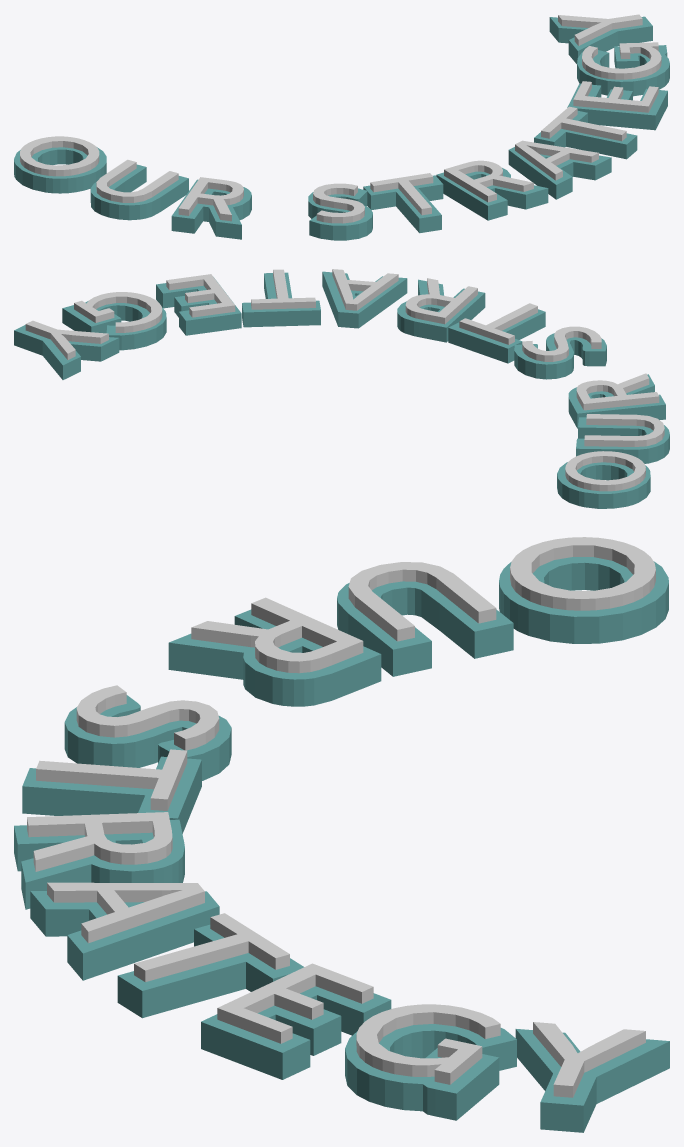
Rendered from SIDE2-title.glb.
The picture shows the model from 3 angles, top to bottom: view 1: azimuth 30°, elevation 25°; view 2: azimuth 150°, elevation 25°; view 3: azimuth 270°, elevation 25°; orthographic projection. The views are drawn at different scales.
Visible parts, largest first — view 1: Mesh_Mesh_head_geo.001_lambert2SG.001; view 2: Mesh_Mesh_head_geo.001_lambert2SG.001; view 3: Mesh_Mesh_head_geo.001_lambert2SG.001.
Boxes of the visible parts, x1=… form: Mesh_Mesh_head_geo.001_lambert2SG.001: x1=14, y1=14, x2=669, y2=240; Mesh_Mesh_head_geo.001_lambert2SG.001: x1=14, y1=269, x2=669, y2=508; Mesh_Mesh_head_geo.001_lambert2SG.001: x1=14, y1=537, x2=669, y2=1132.
Bounding box in the file's own units: 198 × 6.41 × 98.
